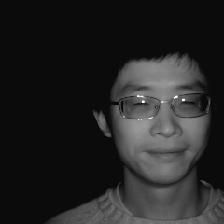happy: (82, 29, 224, 193)
